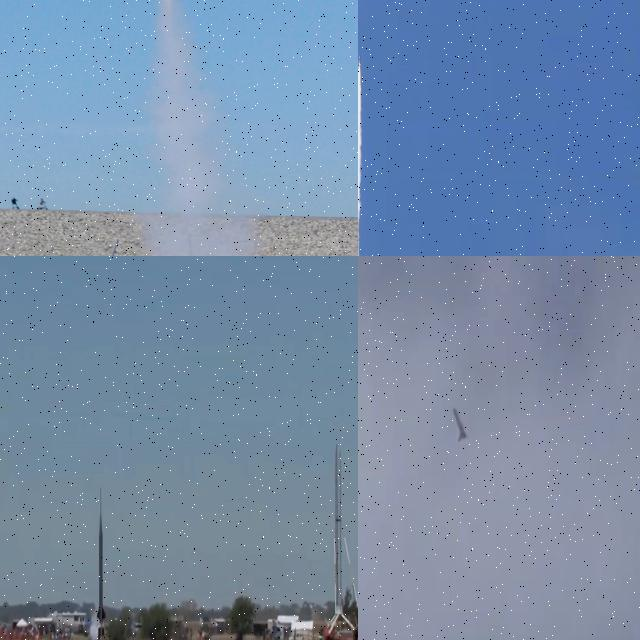Rocket: (96, 514, 105, 624), (454, 408, 468, 442), (358, 54, 361, 66)
